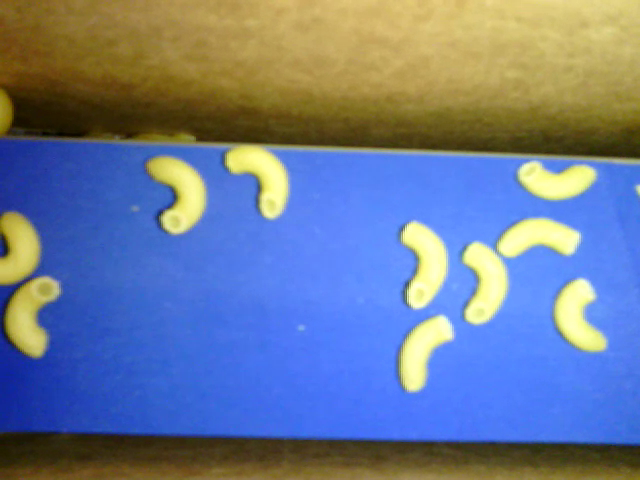elbow: (2, 274, 62, 360), (224, 144, 290, 221), (146, 157, 208, 238), (396, 219, 449, 311), (397, 313, 454, 396), (551, 277, 607, 355), (461, 239, 510, 327), (498, 216, 583, 262), (517, 160, 598, 202), (2, 209, 45, 286)
